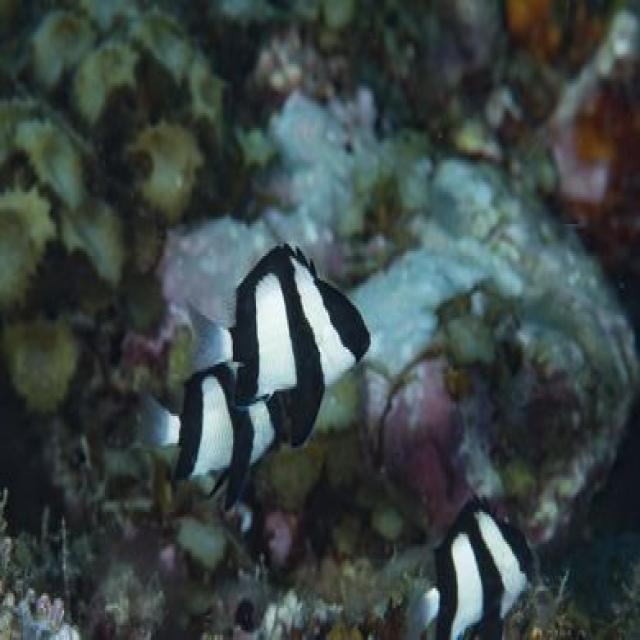ThreeStripedDamselfish: (187, 246, 371, 448), (423, 510, 537, 640)
